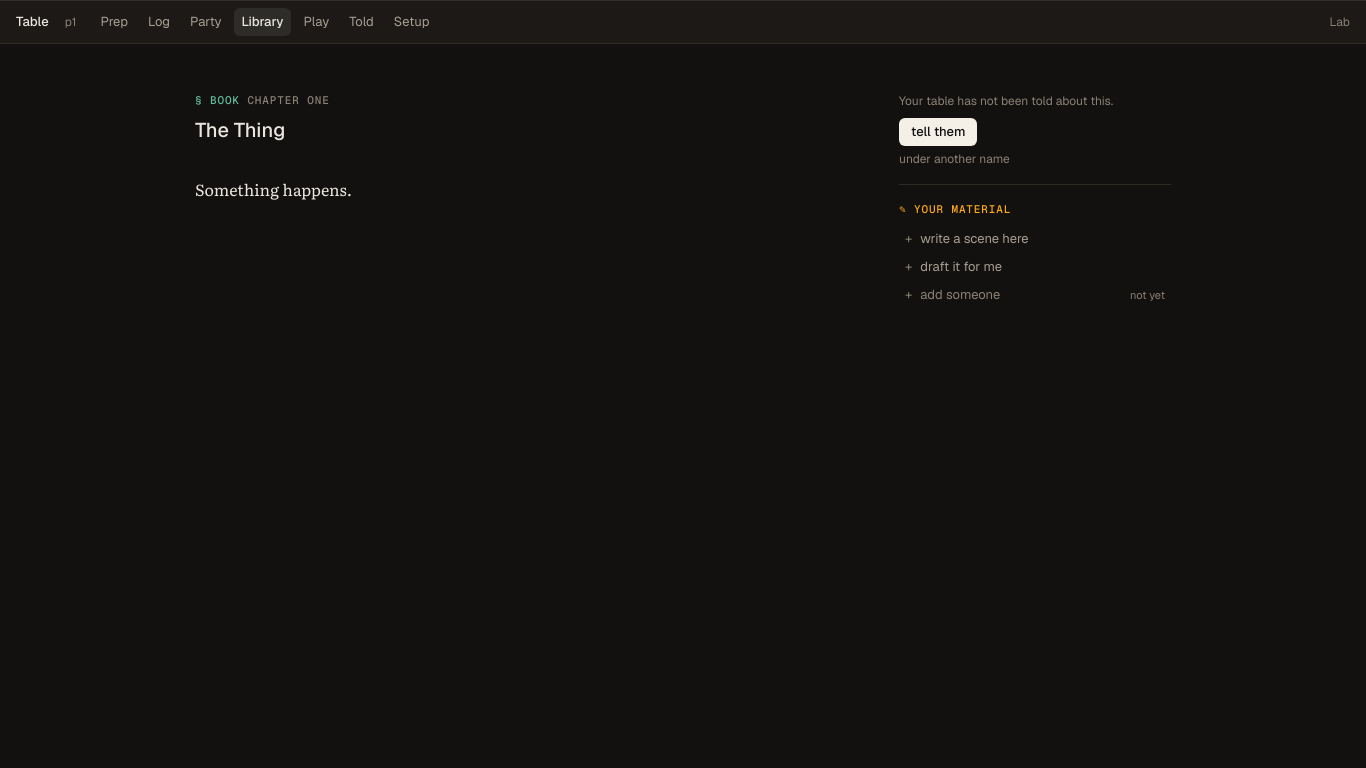
Scenario: moving to another section › lets the rail open again on the same section after a store
Step 1. Click the button "+ draft it for me" → coordinates (961, 266), box [899, 253, 1171, 281]
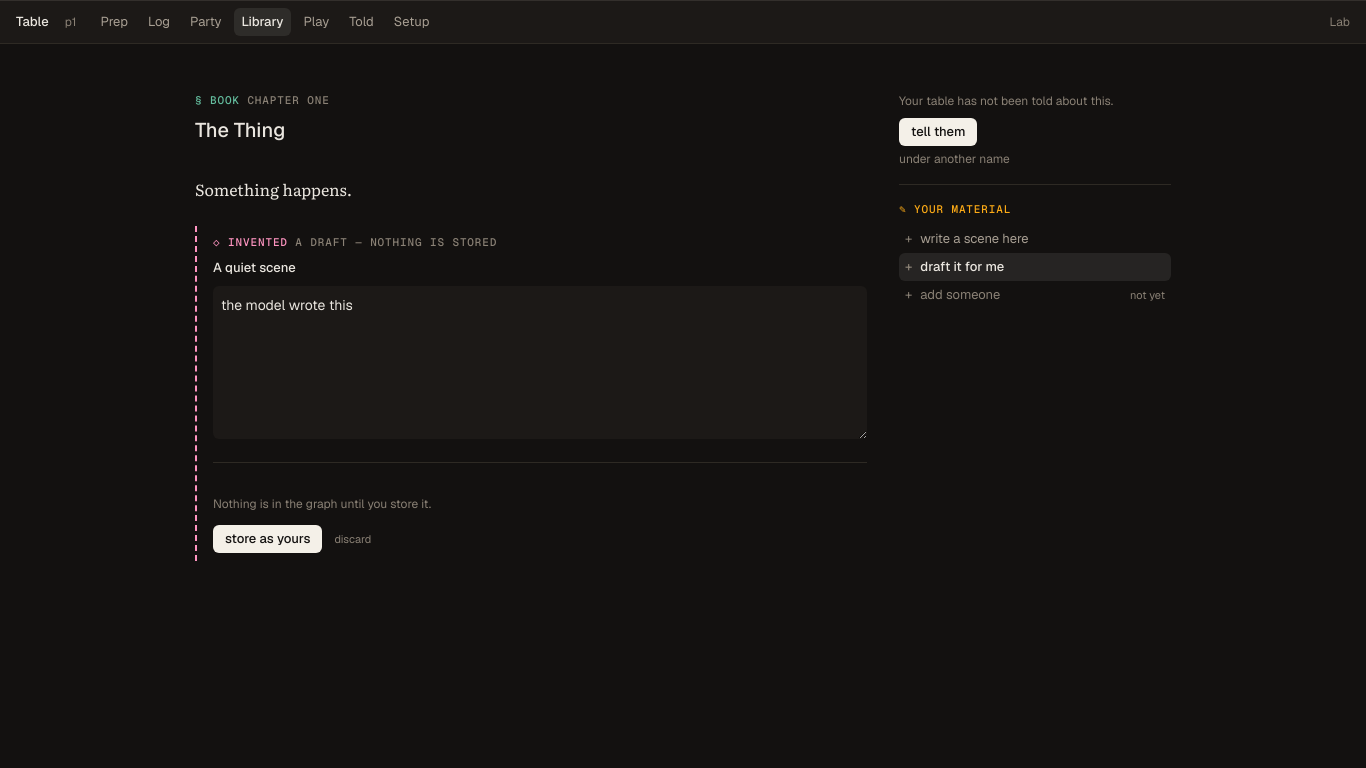
Step 2. Click the button "store as yours" → coordinates (268, 538), box [213, 524, 322, 552]
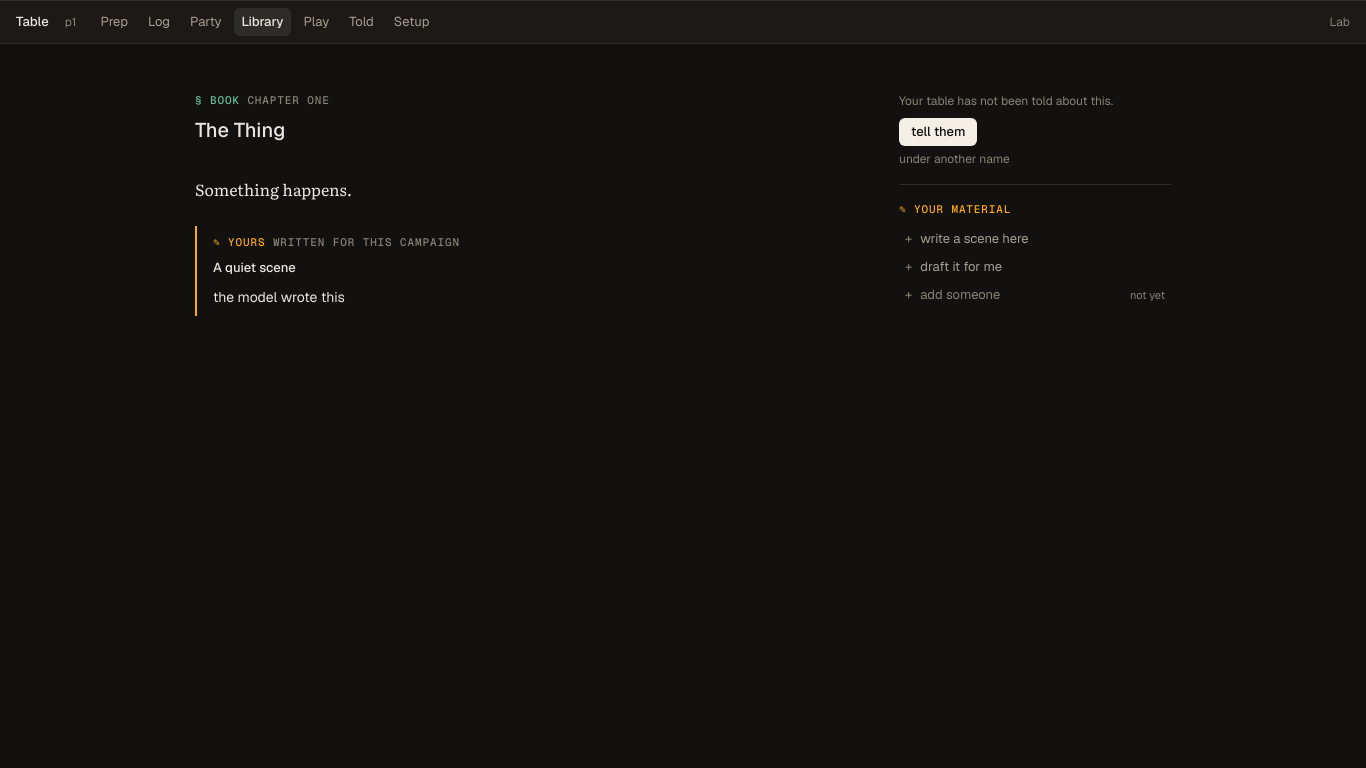
Check: the text "the model wrote this" is shown, box [213, 288, 345, 306]
Step 3. Click the button "+ write a scene here" → coordinates (974, 238), box [899, 225, 1171, 253]
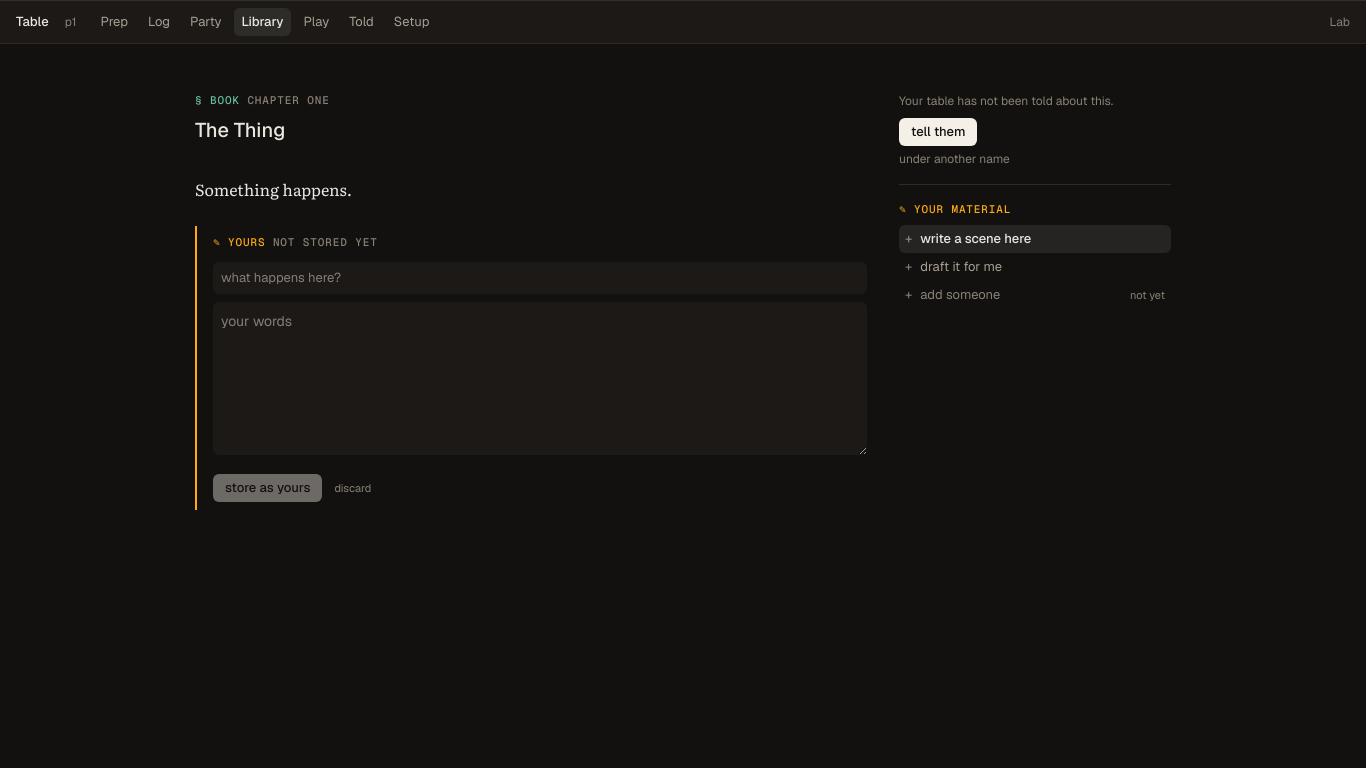
Check: the text box with placeholder "your words" is shown, box [213, 302, 867, 454]
